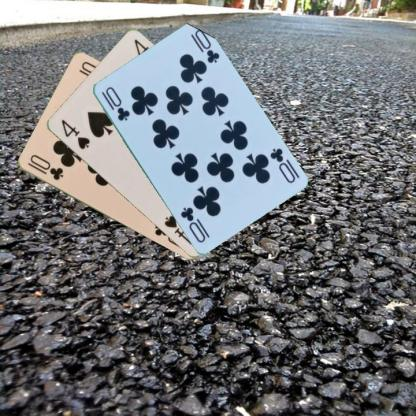10c: (98, 84, 131, 122), (24, 152, 65, 182), (266, 145, 296, 184)
4s: (58, 117, 92, 151)
